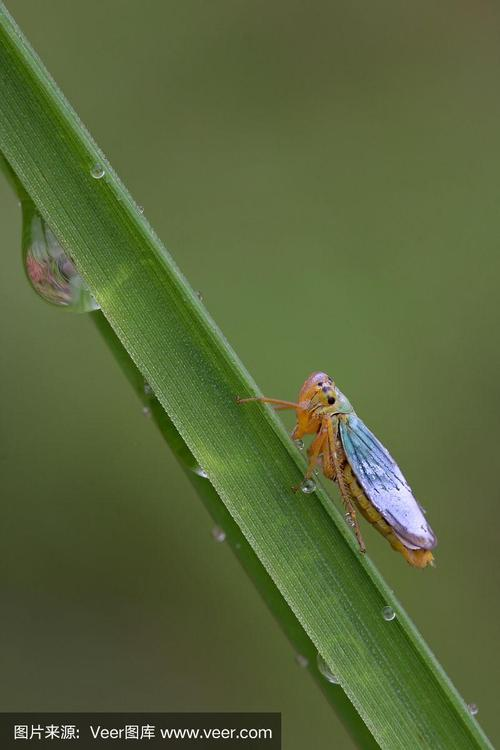Cicadellidae: (235, 373, 436, 568)
